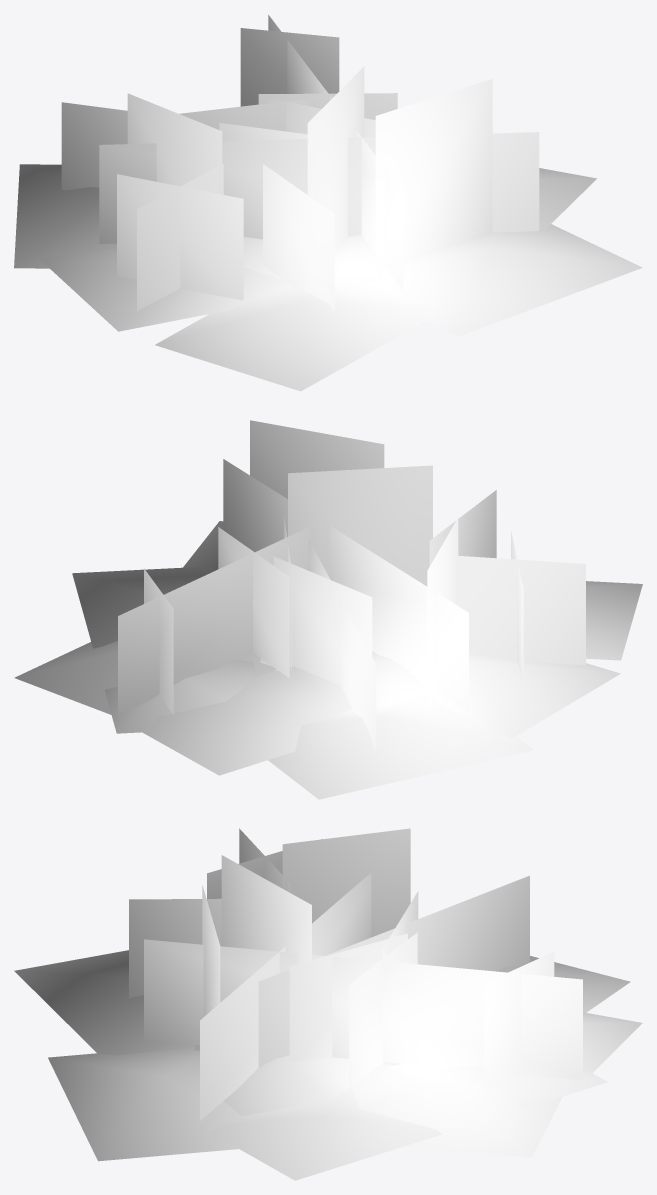
Rendered from SM_Env_Ground_Cover_02.glb.
3 renders of one model, top to bottom at view 1: azimuth 30°, elevation 25°; view 2: azimuth 150°, elevation 25°; view 3: azimuth 270°, elevation 25°, orthographic. The views are drawn at different scales.
Parts seen in each view (by area): view 1: SM_Env_Ground_Cover_02_LOD0; view 2: SM_Env_Ground_Cover_02_LOD0; view 3: SM_Env_Ground_Cover_02_LOD0.
Boxes of the visible parts, <box> form: SM_Env_Ground_Cover_02_LOD0: <box>14,15,642,391</box>; SM_Env_Ground_Cover_02_LOD0: <box>14,420,642,799</box>; SM_Env_Ground_Cover_02_LOD0: <box>14,828,642,1180</box>.
Size of what is drawn, in the model's own units: 1.87 by 0.5704 by 1.91.
Materials: 1 (1 with a texture image).
